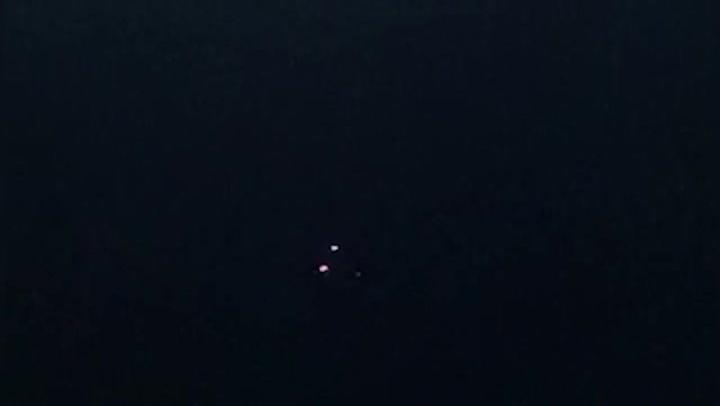Plane: (279, 232, 413, 291)
